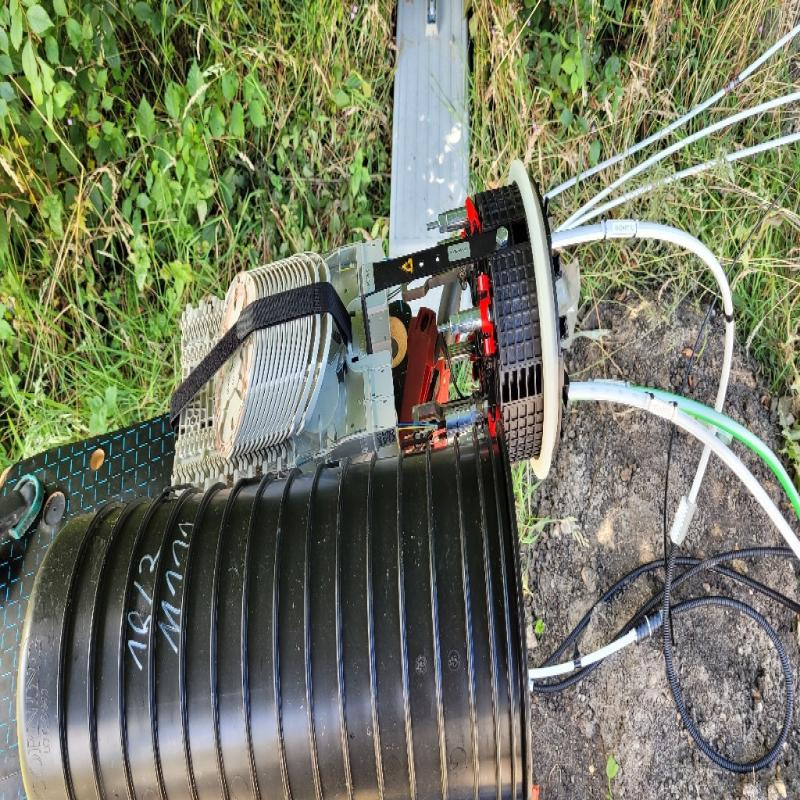NT-Muffen: (14, 438, 531, 800), (172, 157, 568, 489)
